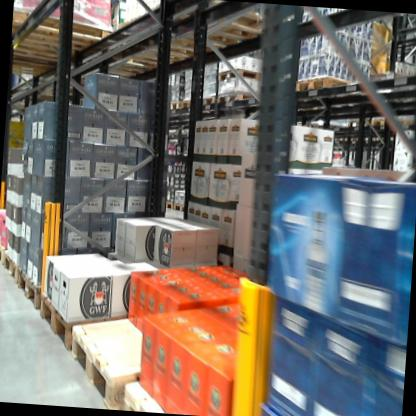pallet: (64, 279, 217, 416), (34, 262, 214, 366), (151, 0, 284, 56), (11, 10, 110, 57), (125, 373, 191, 415), (292, 70, 363, 101), (14, 262, 47, 305), (213, 63, 269, 86), (214, 92, 258, 113), (4, 246, 23, 293), (369, 112, 406, 133), (198, 89, 219, 113), (346, 111, 373, 129), (179, 91, 199, 115), (350, 132, 376, 148), (168, 95, 184, 117), (0, 238, 10, 270), (333, 133, 351, 147)
